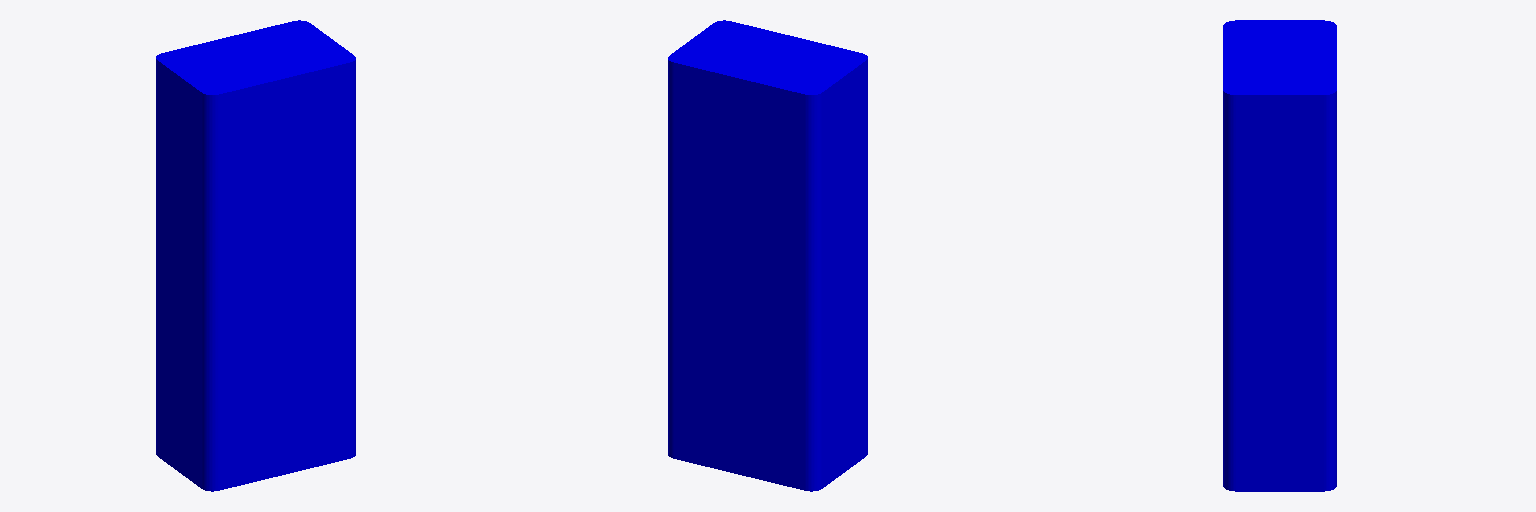
URDF robot description (board2_block5):
<?xml version="1.0"?>
<robot name="board2_block5">
    <link name="board2_block5">
        <visual>
            <origin xyz="0 0 0 " rpy=" 0 0 0"/>
            <geometry>
                <mesh filename="../meshes/SIMO_Board2_Block5.stl" scale="0.001 0.001 0.001"/>
            </geometry>
            <material name="red">
                <color rgba="0.0 0.0 1.0 1.0"/>
            </material>
        </visual>
        <collision>
            <origin xyz="0 0 0" rpy="0 0 0"/>
            <geometry>
                <mesh filename="../meshes/SIMO_Board2_Block5.stl" scale="0.001 0.001 0.001"/>
            </geometry>
        </collision>
    </link>
</robot>

--- What the picture shows (computed from the rendered views, not written in the file) ---
Views: 3 orthographic renders of the robot side by side, from view 1: azimuth 30°, elevation 25°; view 2: azimuth 150°, elevation 25°; view 3: azimuth 270°, elevation 25°.
Robot: board2_block5 — 1 links, 0 joints (none); root link board2_block5; default pose: all joints at 0.
Links seen in each view (by area): view 1: board2_block5; view 2: board2_block5; view 3: board2_block5.
Boxes of the visible links, x1,y1,x2,y2 form: board2_block5: (156,20,355,491); board2_block5: (668,20,867,491); board2_block5: (1223,20,1336,491).
Size in the robot's own frame: 0.0403 by 0.0259 by 0.1 metres.
Meshes: 1 distinct files referenced, 1 mesh visuals loaded (1 ASCII STL).
